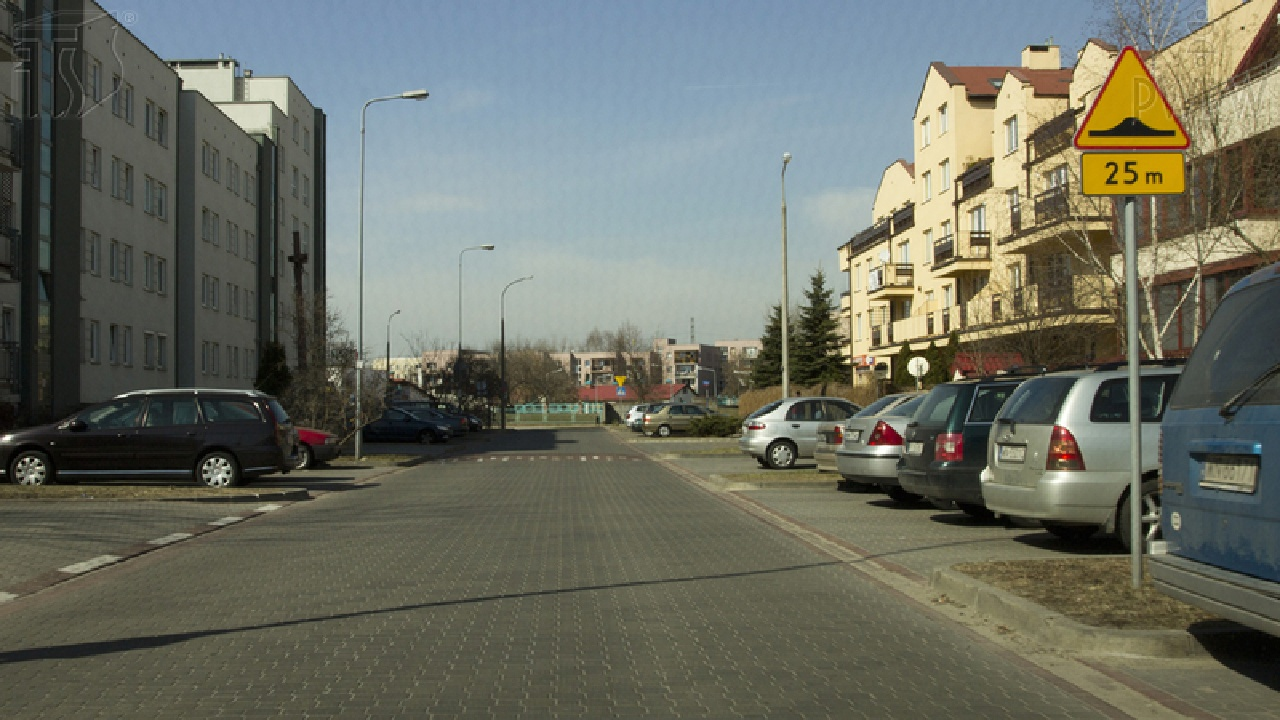A11a: (1074, 45, 1192, 150)
